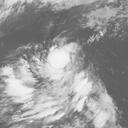cyclone: (38, 39, 82, 83)
